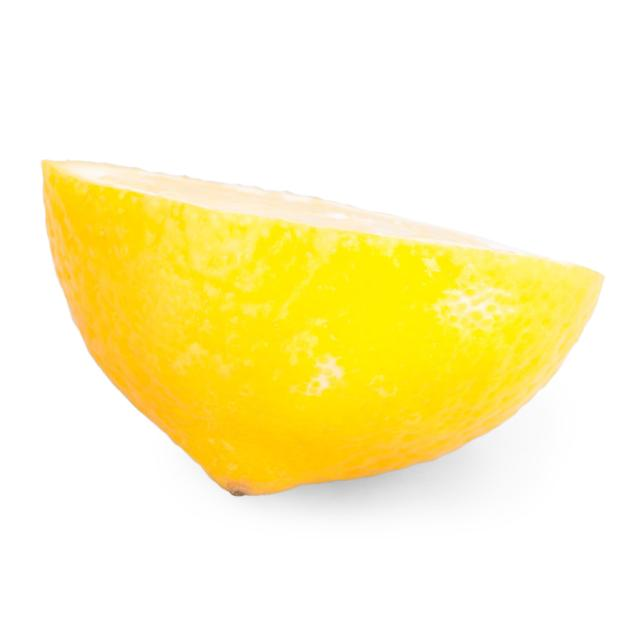lemon: (38, 150, 612, 503)
